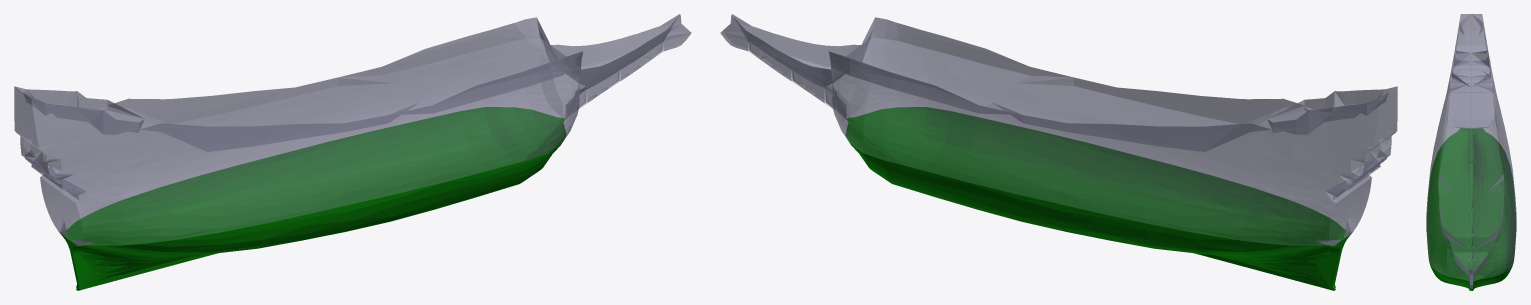
File: Galleon «Wasa».obj
The picture shows the model from 3 angles, left to right: view 1: azimuth 30°, elevation 25°; view 2: azimuth 150°, elevation 25°; view 3: azimuth 270°, elevation 25°; orthographic projection. The views are drawn at different scales.
Size of the model in its own units: 63.91 by 19.28 by 11.85.
